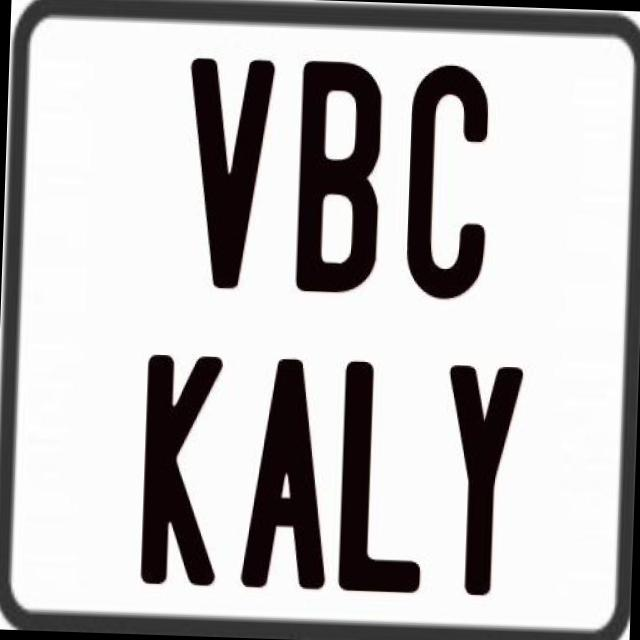A: (237, 356, 335, 590)
B: (294, 56, 379, 294)
C: (402, 64, 493, 302)
K: (138, 349, 228, 581)
L: (337, 358, 433, 594)
V: (182, 54, 274, 289)
Y: (442, 364, 528, 606)
